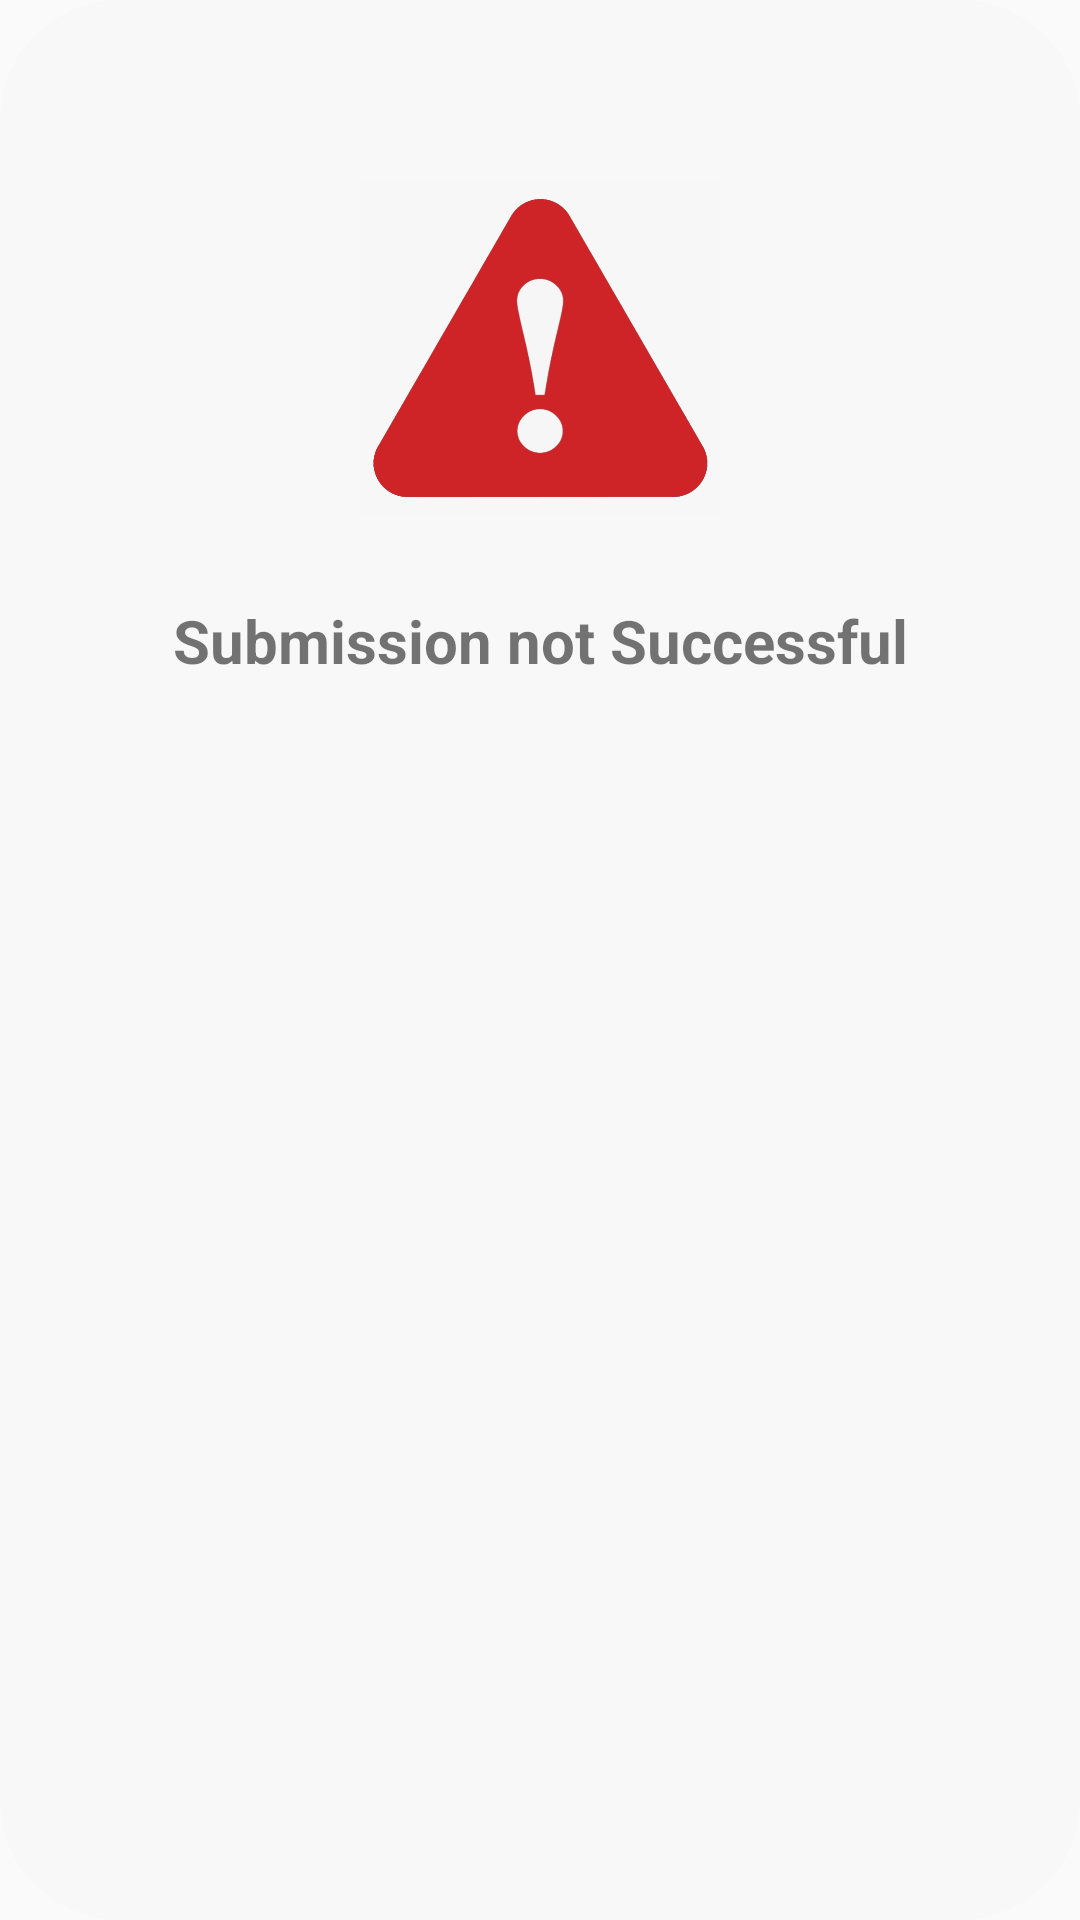

Icon bounding boxes for this 1080*1920 phone screenshot, format (left=x1, top=y1, right=x2, bottom=y2):
warning: (left=373, top=199, right=708, bottom=497)
